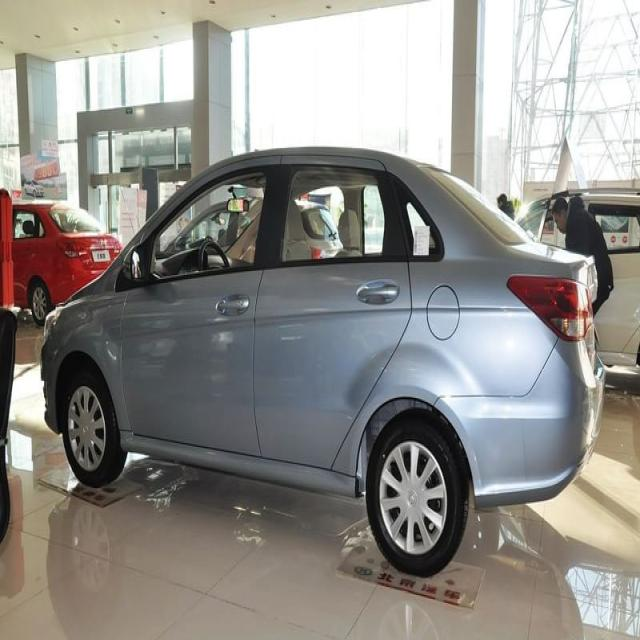back_glass: (426, 161, 530, 249)
back_left_side_light: (506, 271, 594, 345)
door: (257, 155, 414, 464)
front_left_side_door: (117, 151, 285, 465)
front_left_side_light: (42, 303, 65, 349)
front_left_side_mirror: (121, 242, 146, 287)
rear_bumper: (434, 334, 606, 511)
wheel: (366, 409, 466, 575), (62, 366, 128, 487)
